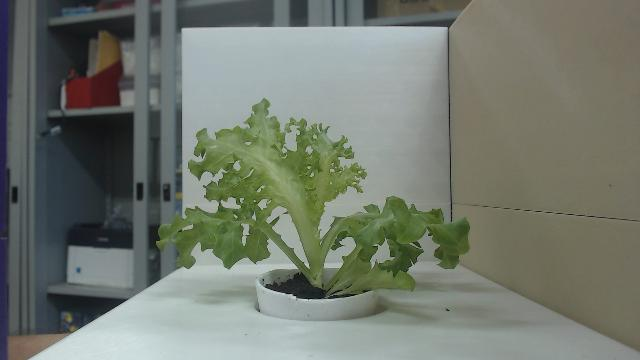Harvest Stage: (156, 99, 470, 300)
